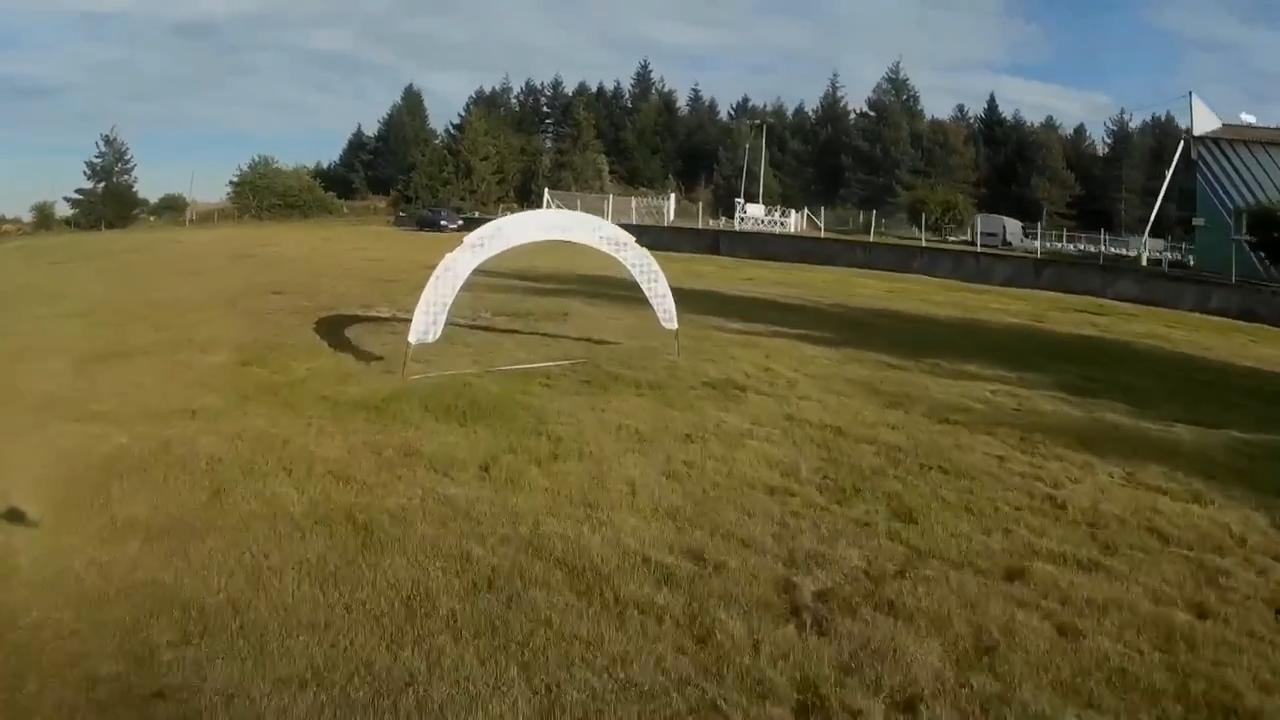gate: (407, 208, 678, 343)
